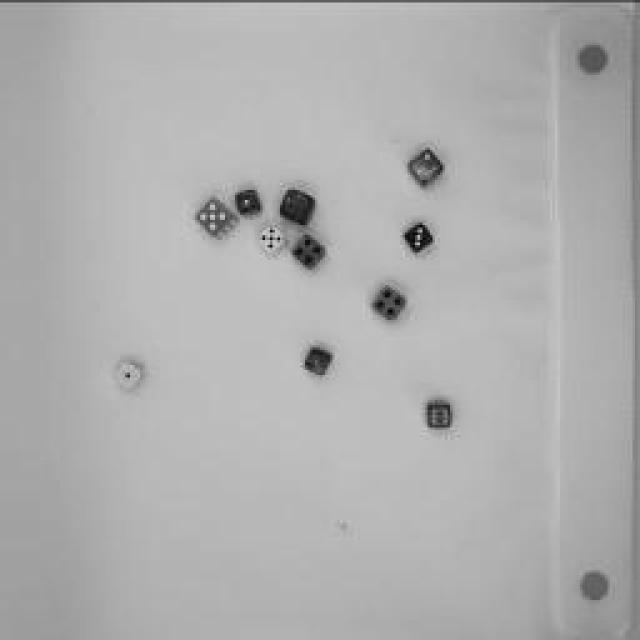dice_1: (111, 359, 149, 386), (233, 186, 265, 216)
dice_2: (408, 145, 448, 187), (301, 344, 339, 381)
dice_3: (401, 222, 439, 252)
dice_4: (291, 230, 331, 270), (280, 186, 320, 226), (370, 285, 410, 323)
dice_5: (194, 196, 236, 239), (256, 225, 289, 255)
dice_6: (426, 394, 456, 434)
